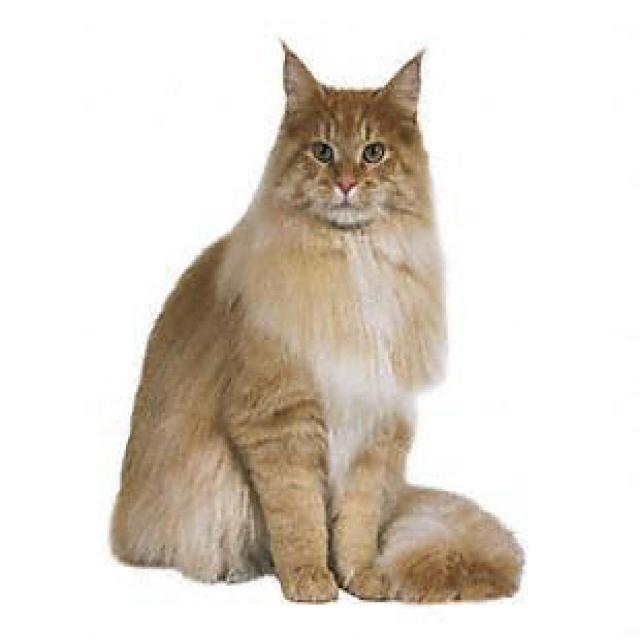Maine_Coon: (274, 33, 429, 247)
